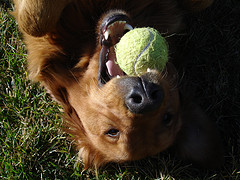tennis ball: (114, 26, 170, 76)
